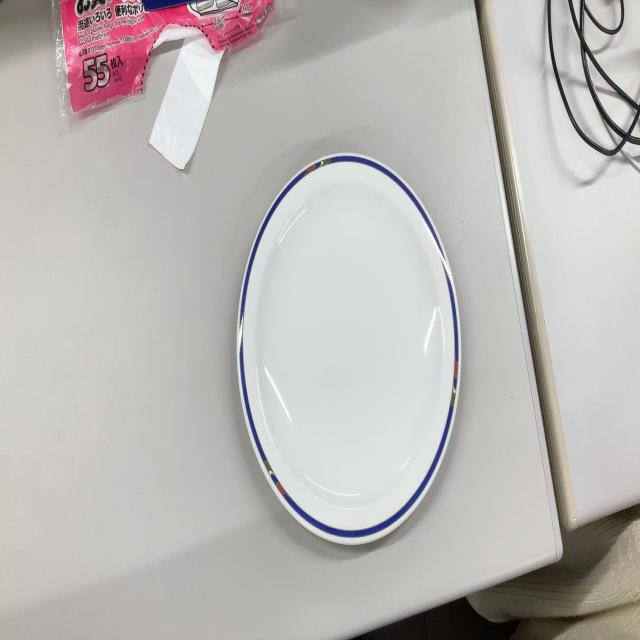plate: (236, 148, 463, 553)
